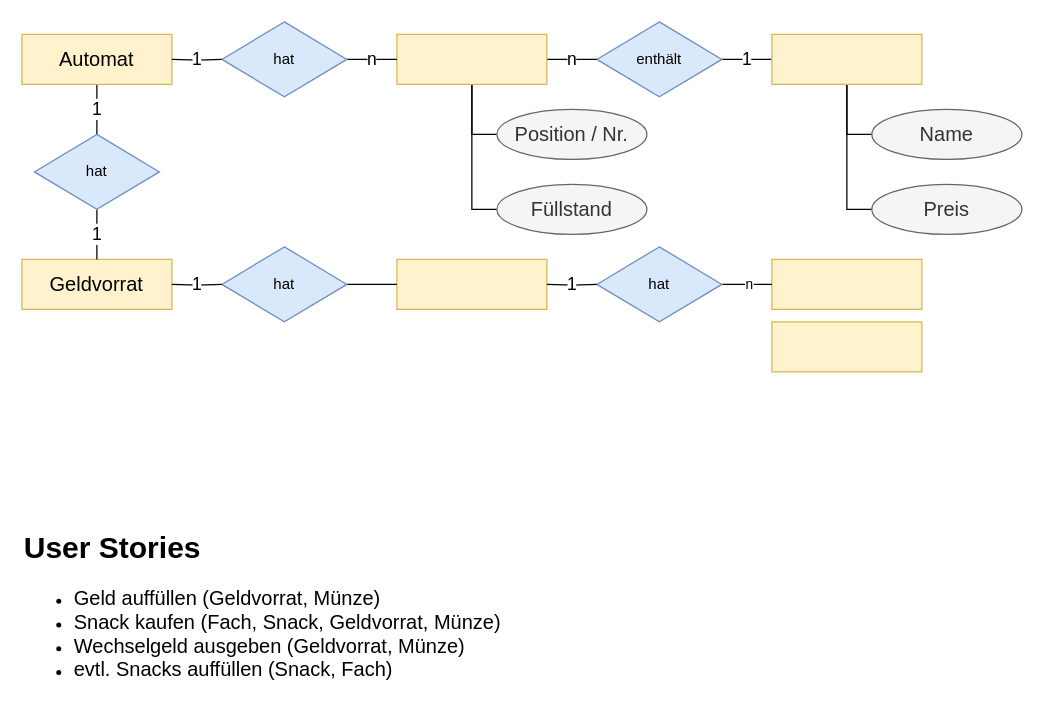
The diagram is 1044 pixels wide and 723 high, and some of its shapes have lost their labels. Each missing label, with the centre of its shape:
1€-Münze: the point at 846,283
2€-Münze: the point at 846,346
Fach: the point at 471,58
Geldmenge: the point at 471,283
Snack: the point at 846,58
